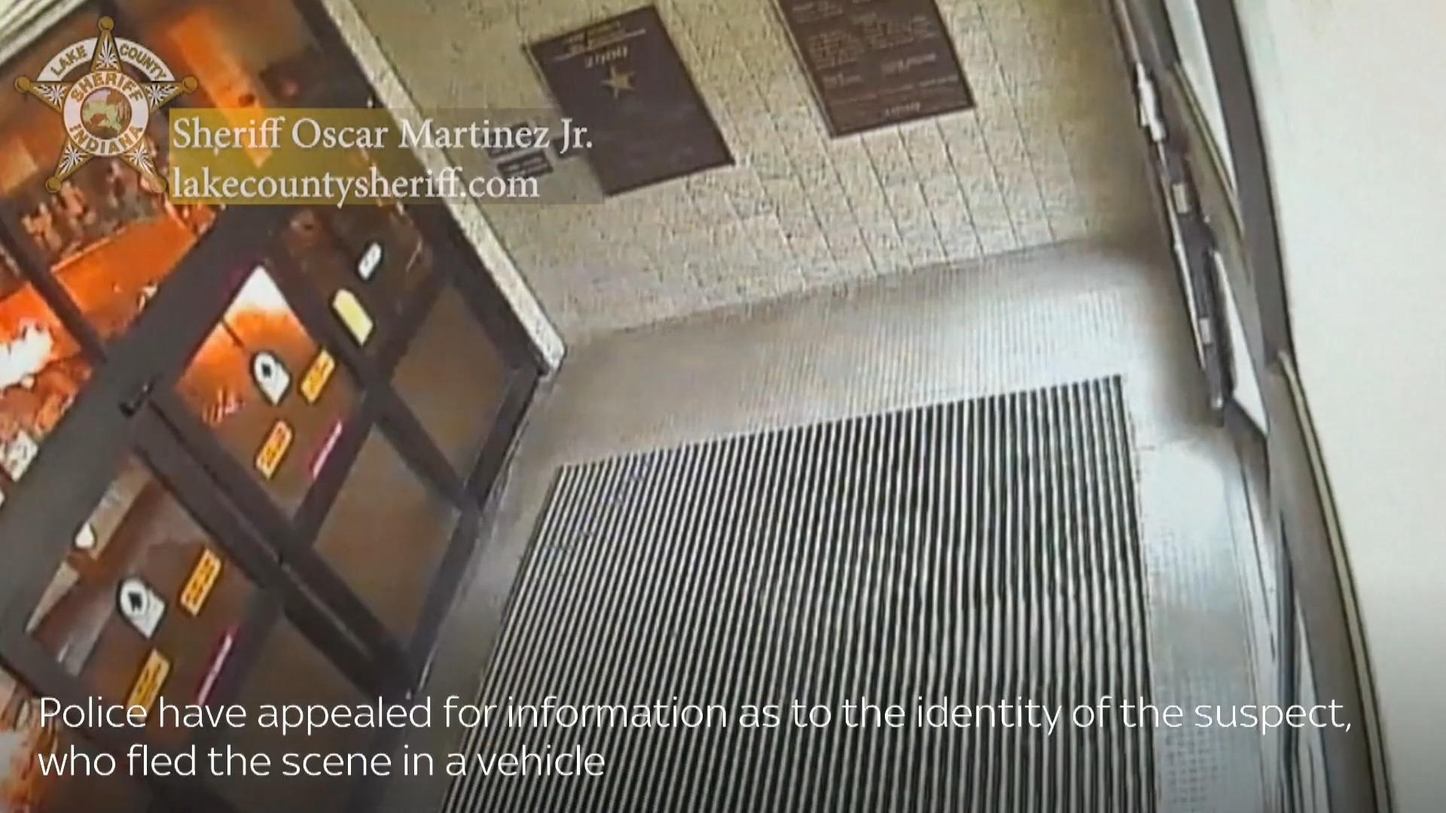fire: (221, 263, 290, 312), (0, 326, 55, 386)
